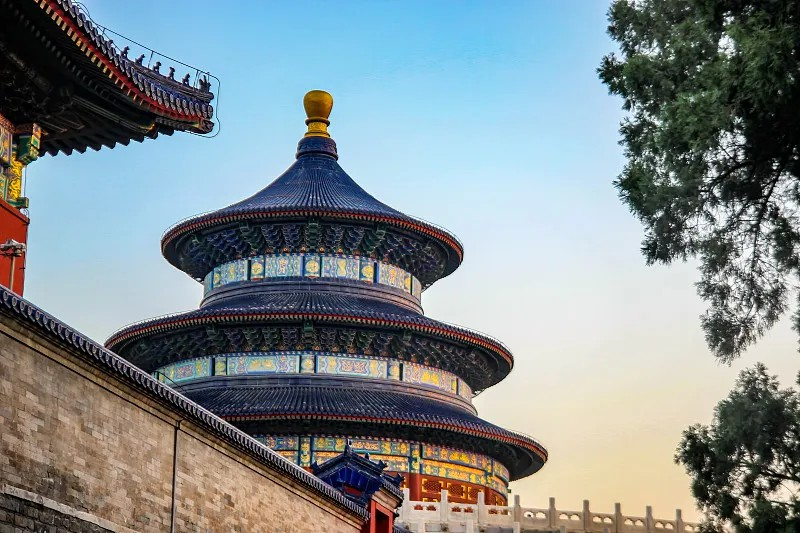Heaven: (105, 90, 550, 509)
